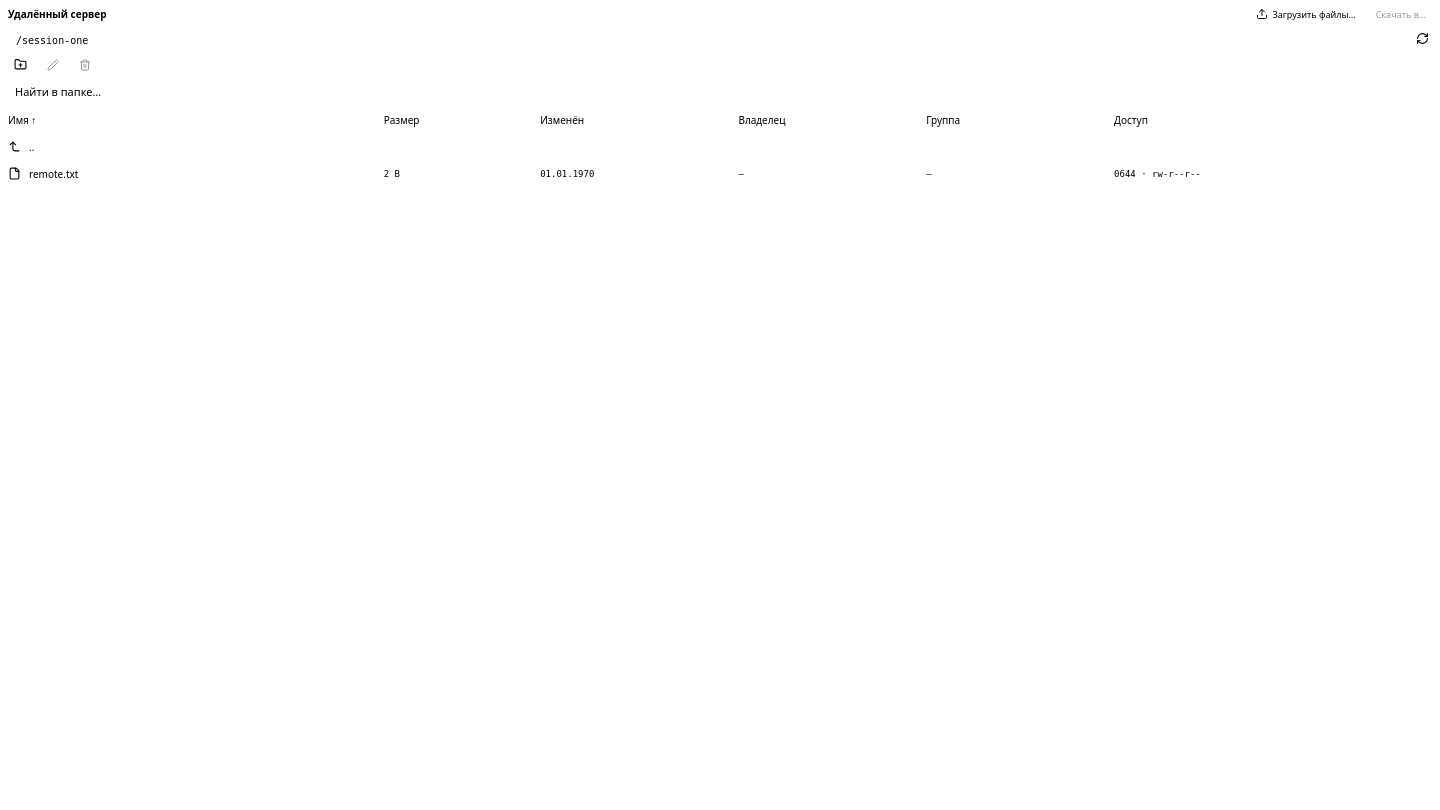
Test: dismisses an open permissions dialog when switching SSH sessions
What coordinates should you click on to do the following:
click the text "remote.txt"
I would click on:
 (54, 174)
Its box is [29, 166, 78, 180].
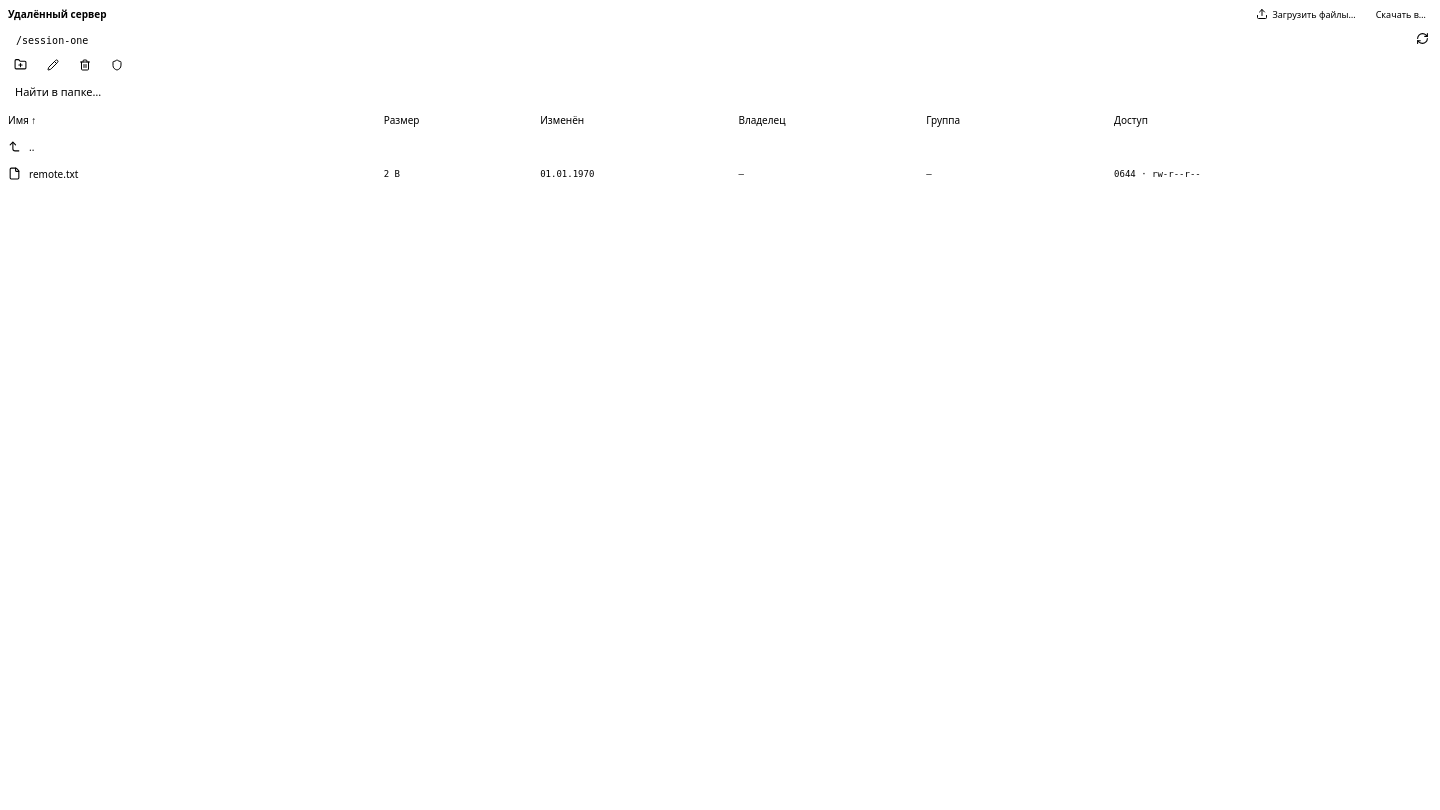
What coordinates should you click on to do the following:
click the button named "Изменить права доступа"
I would click on:
 (117, 66)
Its box is [105, 56, 129, 76].
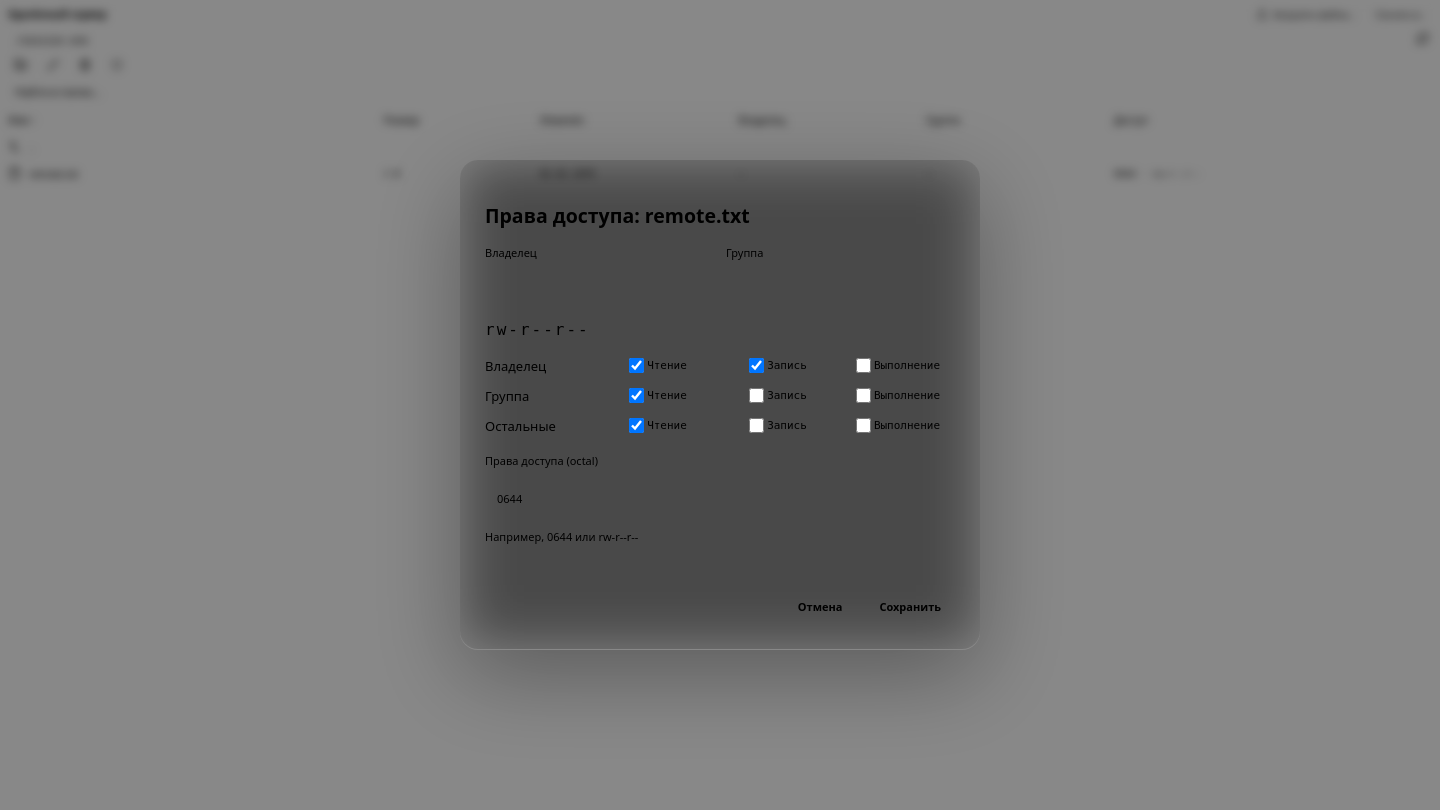
Check: the dialog is shown, box [460, 160, 980, 650]
